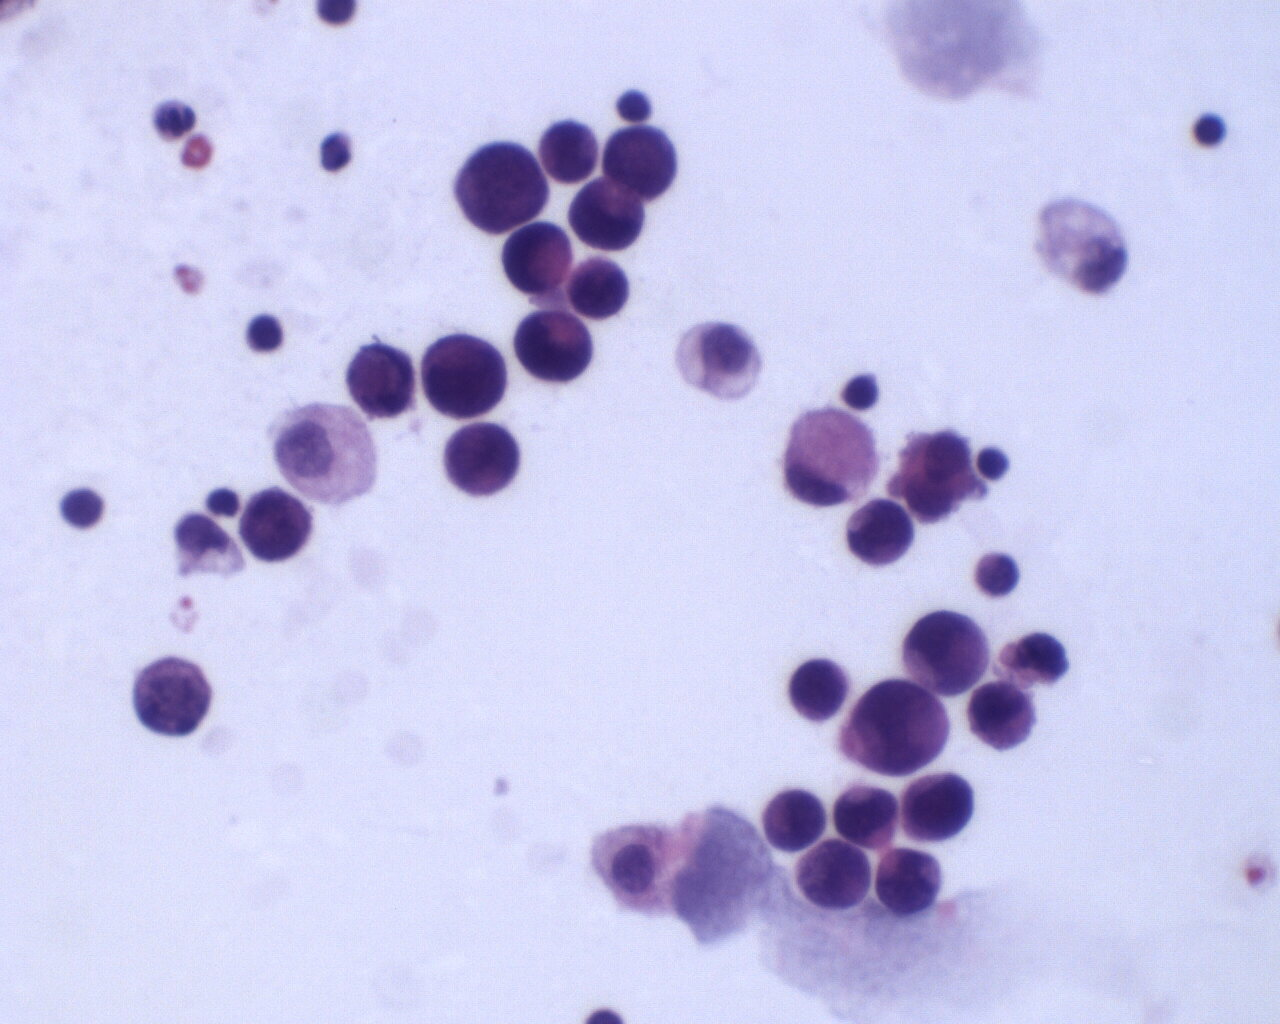ab: (838, 679, 954, 778), (453, 138, 551, 232), (900, 603, 993, 697), (133, 653, 224, 746), (419, 333, 510, 419), (513, 303, 594, 390), (441, 416, 523, 499), (346, 334, 419, 424), (897, 767, 976, 845), (238, 482, 315, 563), (797, 838, 879, 913), (566, 177, 650, 250), (605, 119, 681, 197), (502, 219, 576, 299), (872, 841, 947, 920), (964, 680, 1038, 753), (998, 621, 1072, 693), (850, 495, 920, 572), (759, 786, 830, 856), (567, 250, 633, 325), (833, 777, 900, 850), (787, 653, 853, 726), (539, 110, 599, 185)
histo: (781, 402, 877, 509)
lymph: (59, 480, 109, 532), (239, 307, 288, 358), (974, 436, 1013, 491), (1189, 104, 1231, 152)
neutro: (150, 93, 200, 142)
